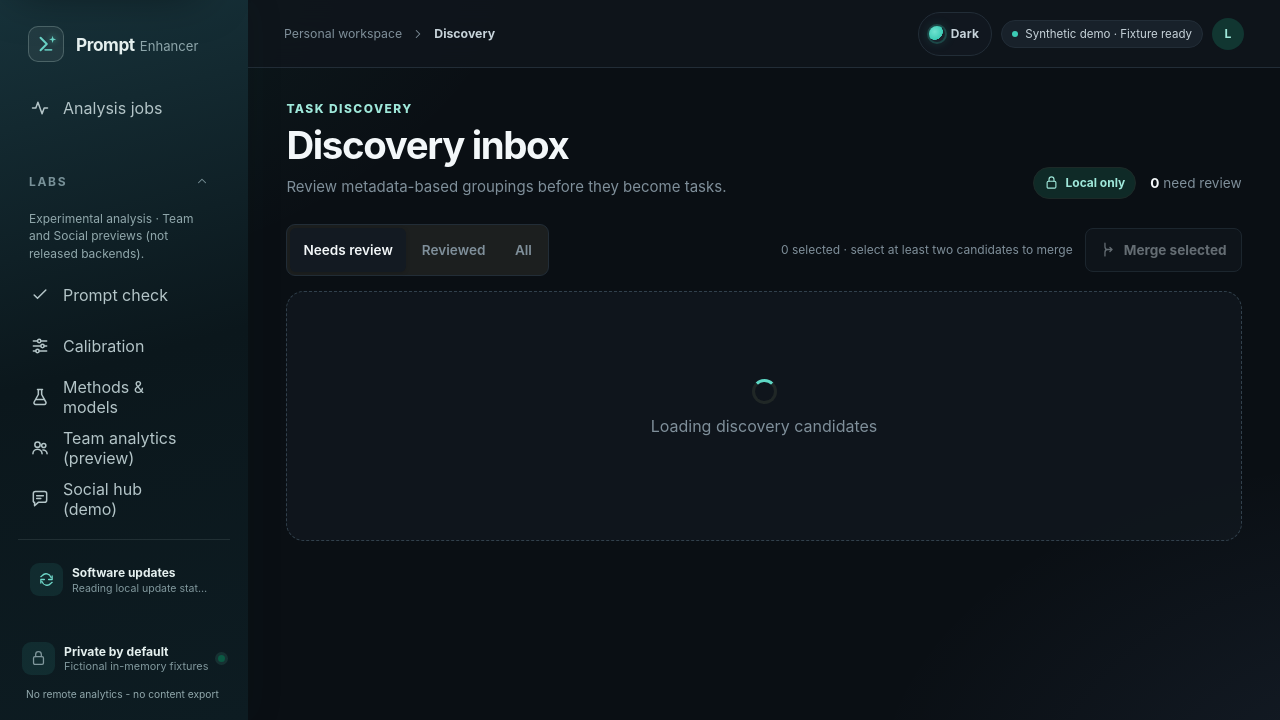
Test case: social hub route › round-trips /social and opens the fictional social workspace in the synthetic preview
This screenshot has width=1280, height=720.
Earlier steps of the test are not shown.
(page scrolled)
Click the button "Social hub (demo)" at (119, 499), box [18,476,220,522]
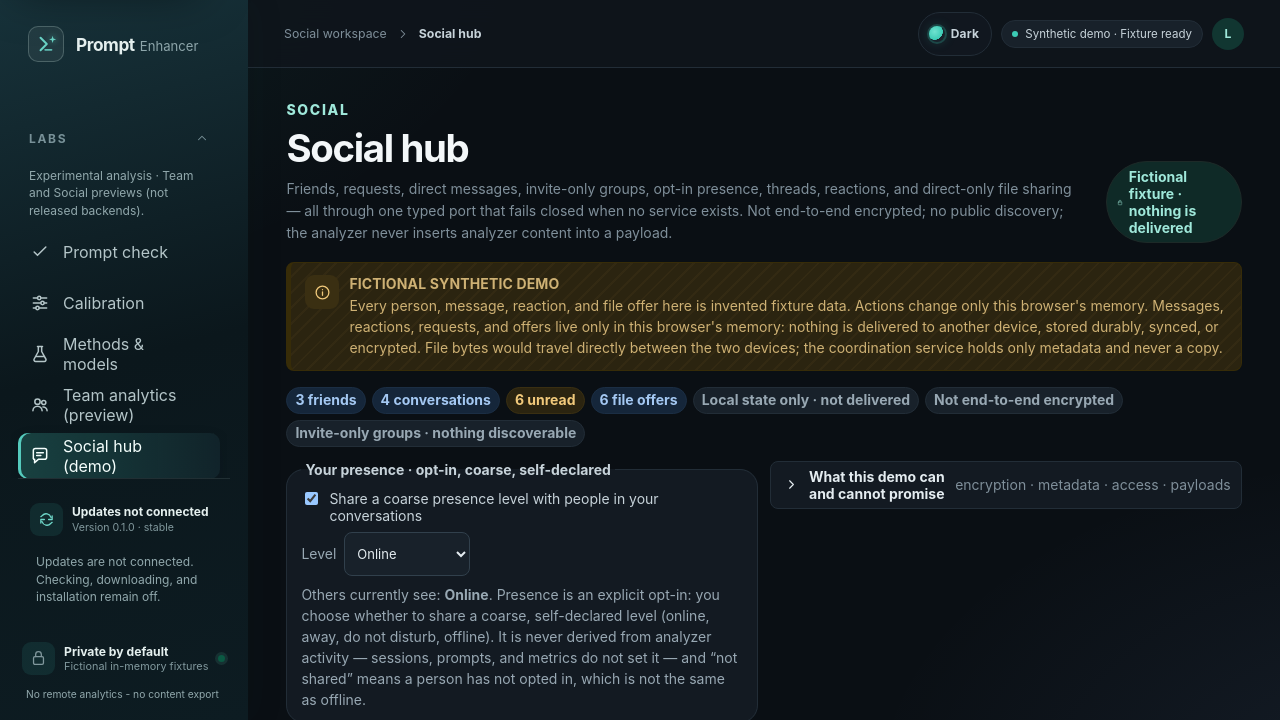
expect the heading "Social hub" is shown: met, box [286,125,468,171]
expect the element named "Current location" shows "Social workspace": met, box [284,26,387,41]
expect the element "Fictional synthetic demo" is shown: met, box [286,262,1242,371]
